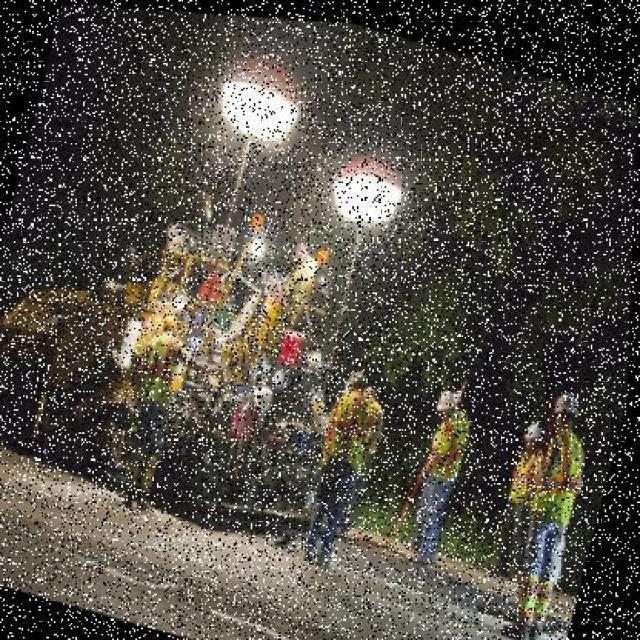helmet: (551, 377, 587, 416), (434, 377, 469, 414), (526, 408, 550, 436)
vest: (528, 420, 598, 528), (317, 380, 389, 479), (128, 322, 196, 421), (422, 406, 480, 484), (505, 436, 547, 515)
